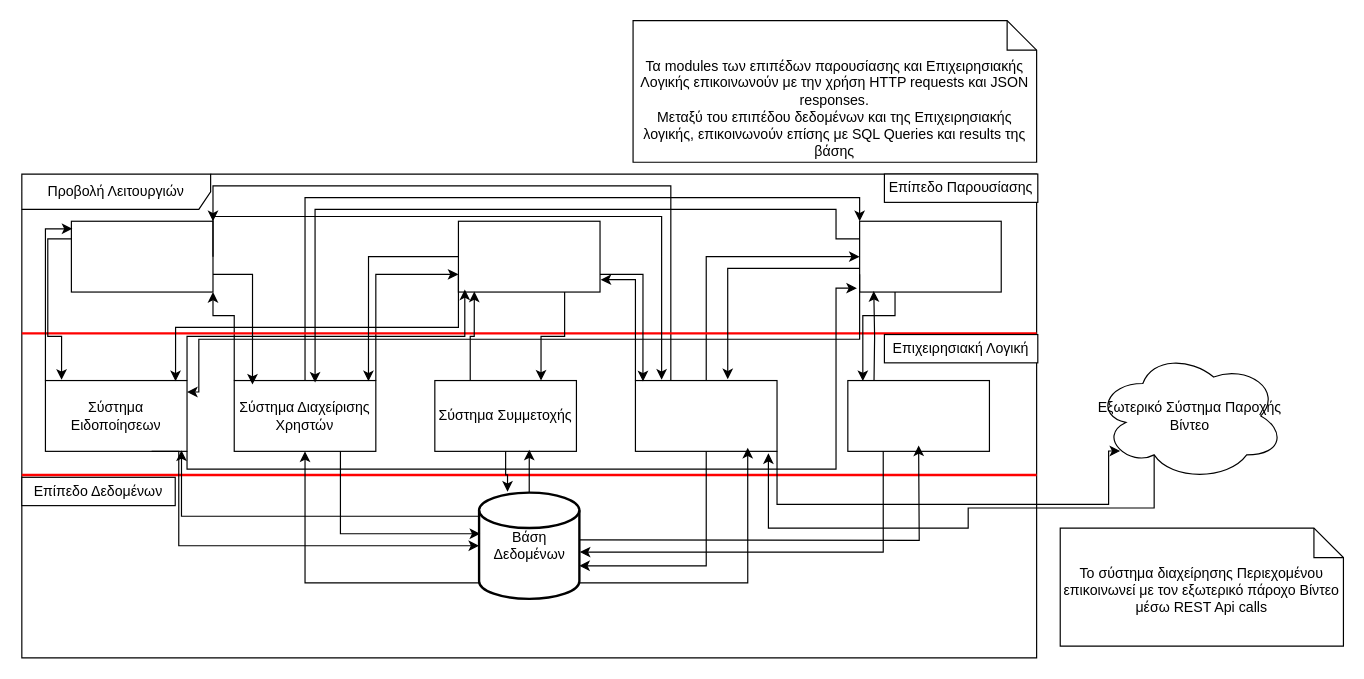
The diagram is 1364 pixels wide and 679 high, and some of its shapes have lost their labels. Each missing label, with the centre of its shape:
Διεπαφή Trip Creator: point 929,256
Διεπαφή Web: point 141,256
Διεπαφή Κινητού: point 528,256
Σύστημα Διαχείρισης Εκδρομών: point 918,415
Σύστημα Διαχείρισης Περιεχομένου: point 705,415
